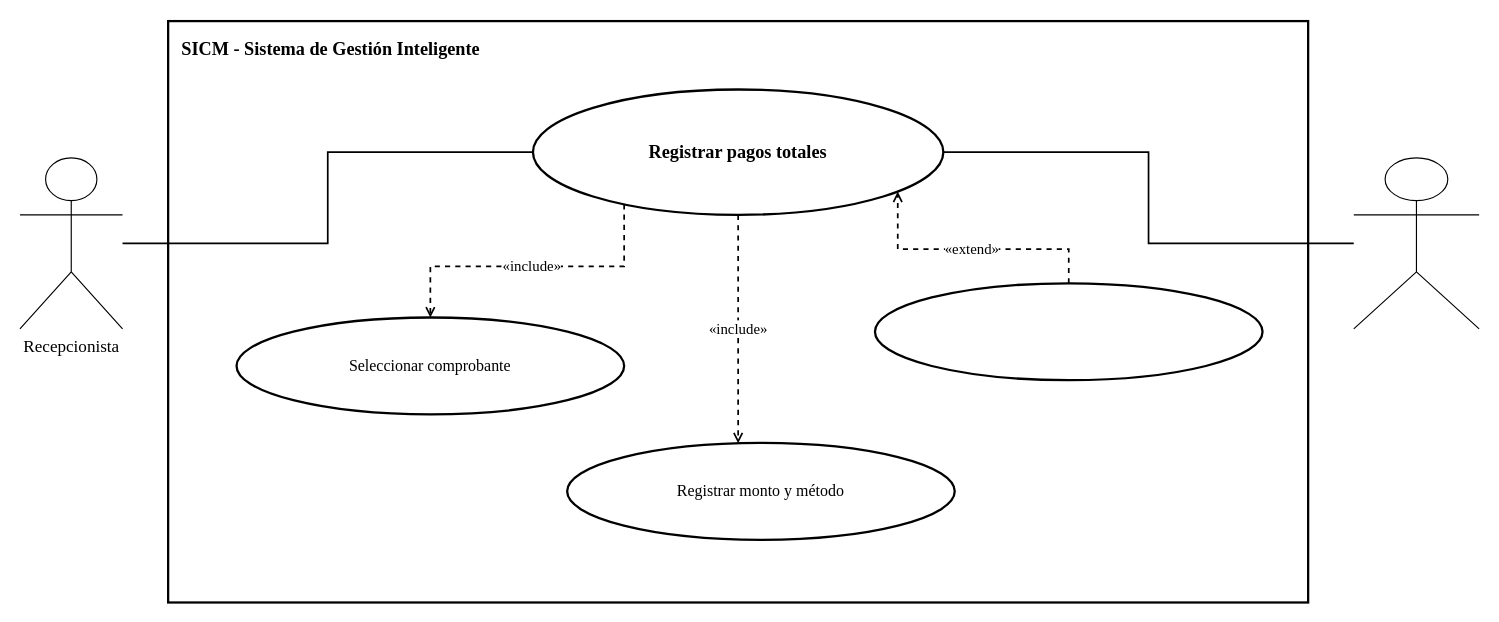
Image size: 1499x622. Some labels were removed from this diagram. The shapes that lost their labels are listed below. From the top down, each one's box as (x1, y1, x2, y2) in pixels, then its label:
(1353, 157, 1479, 329): Paciente
(873, 282, 1263, 381): Marcar comprobante pagado
